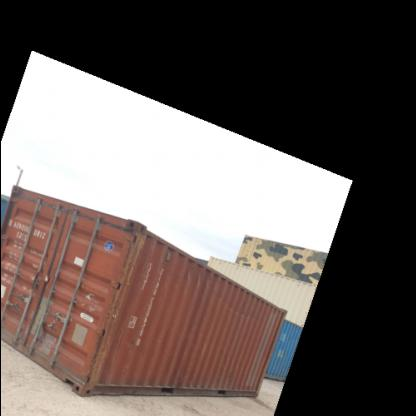Damage: (30, 291, 58, 361), (116, 226, 144, 280), (212, 288, 260, 318), (86, 326, 108, 385), (189, 332, 223, 354), (177, 266, 206, 286), (78, 289, 102, 313)
